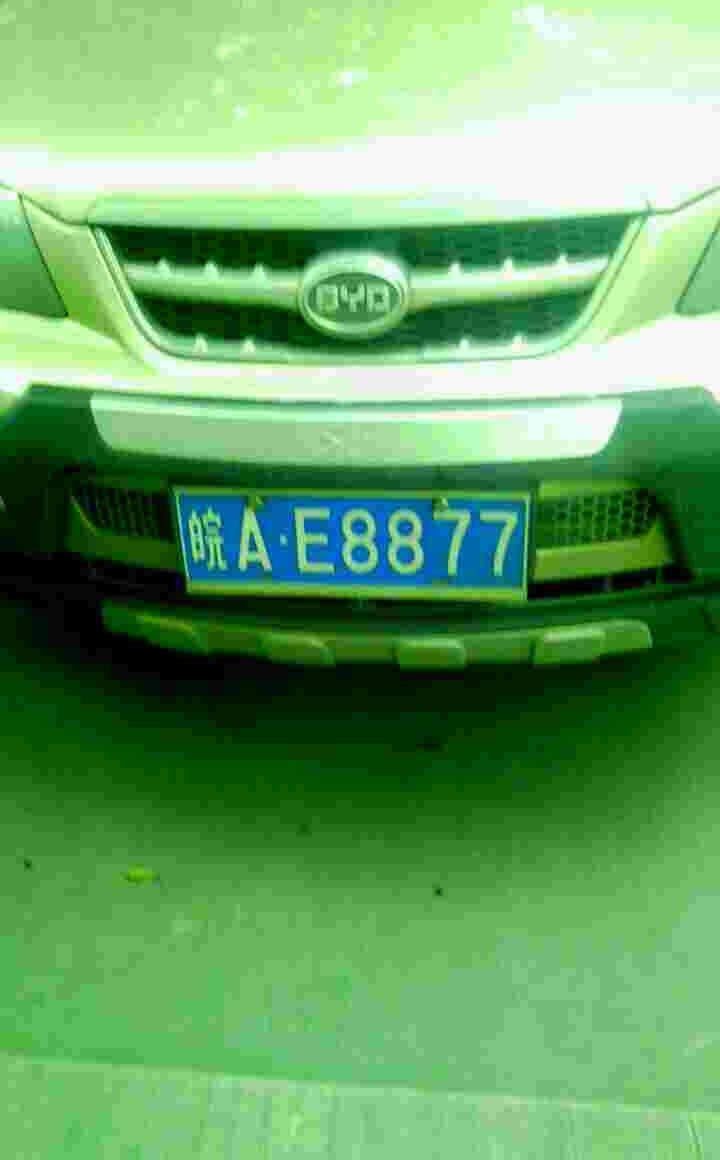license_plate: (169, 504, 530, 588)
